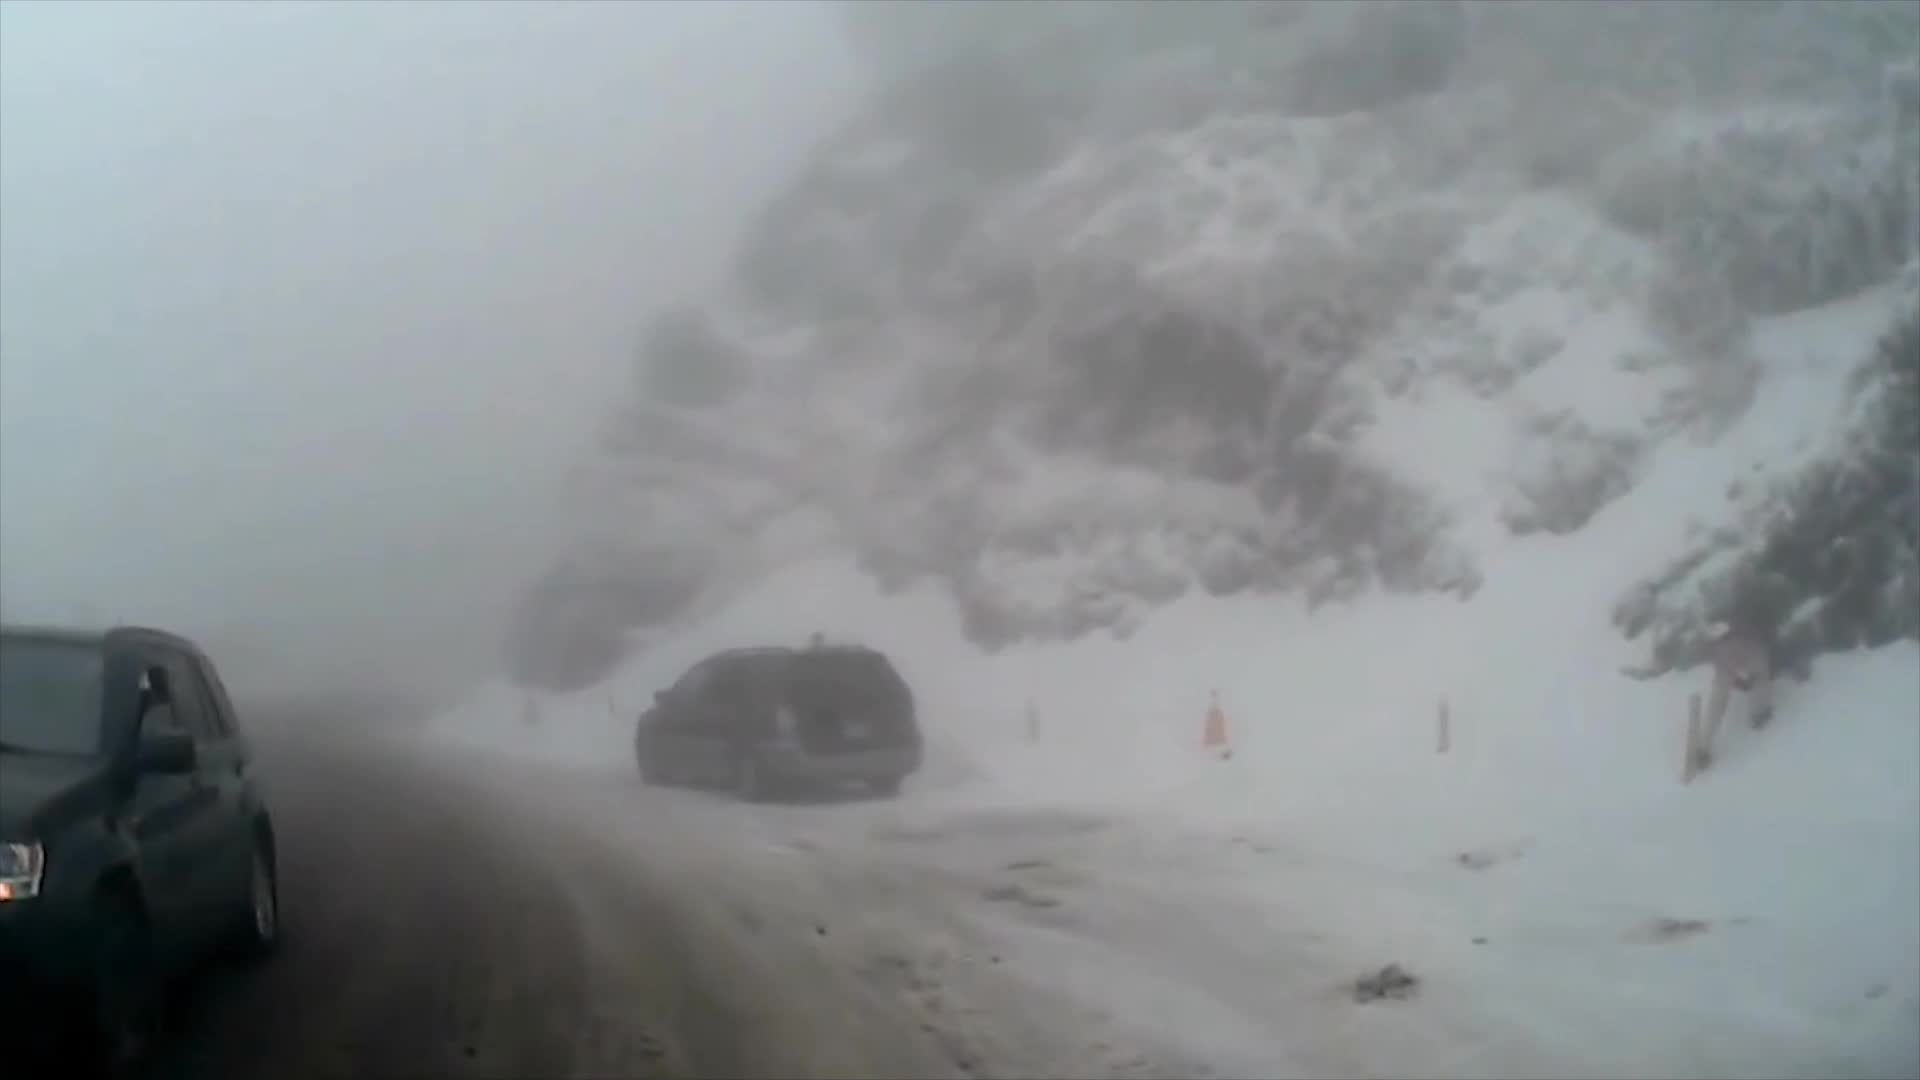vehicle: (0, 618, 284, 1073), (634, 644, 922, 799)
